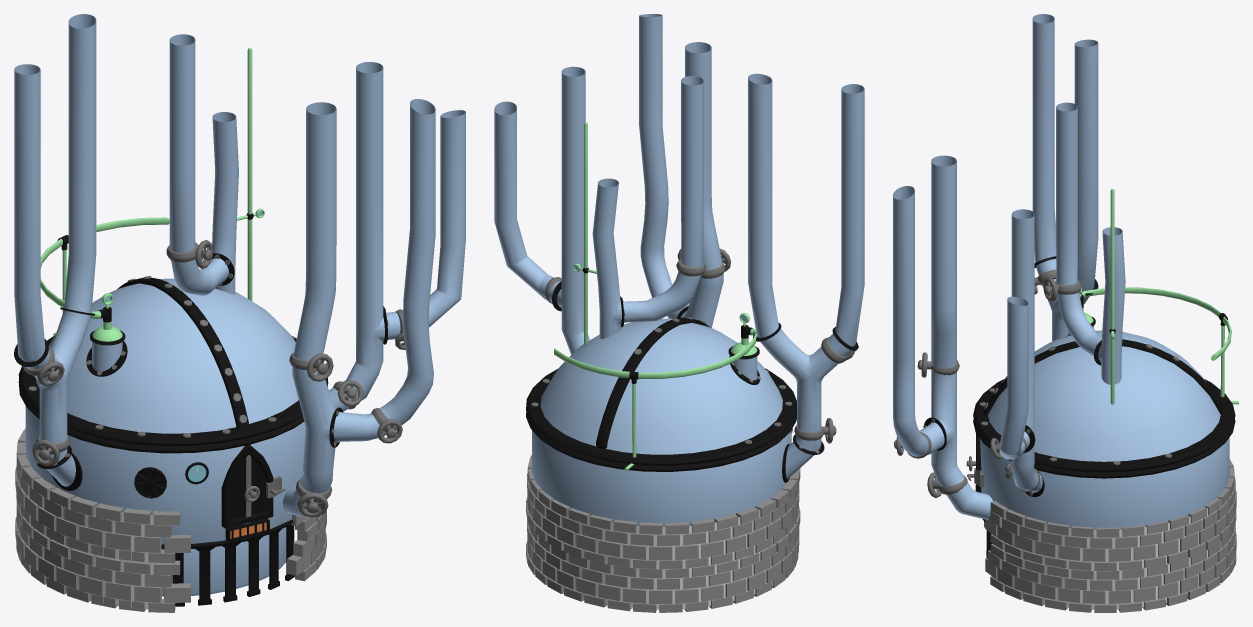
File: fourneau.fbx
3 renders of one model, left to right at view 1: azimuth 30°, elevation 25°; view 2: azimuth 150°, elevation 25°; view 3: azimuth 270°, elevation 25°, orthographic. The views are drawn at different scales.
Visible parts, largest first — view 1: dome, Elbow Joint.007, Elbow Joint.001, bricks, Tee Joint.001, main, Elbow Joint, rebord.001, rebord.002, Cube, base, dome_barre (+6 smaller); view 2: bricks, dome, Elbow Joint.001, main, Tee Joint.001, Elbow Joint.007, Elbow Joint, rebord.001, platre, rebord, dome_barre, Cylinder.020 (+1 smaller); view 3: bricks, dome, Elbow Joint.007, Elbow Joint.001, main, Elbow Joint, Tee Joint.001, rebord.001, platre, rebord, dome_barre, Cylinder.020 (+1 smaller).
Boxes of the visible parts, <box> form: dome: <box>36,278,298,433</box>; Elbow Joint.007: <box>283,99,435,517</box>; Elbow Joint.001: <box>14,14,96,486</box>; bricks: <box>15,428,326,612</box>; Tee Joint.001: <box>329,62,465,411</box>; main: <box>25,406,305,544</box>; Elbow Joint: <box>169,34,238,295</box>; rebord.001: <box>18,336,328,446</box>; rebord.002: <box>161,519,294,606</box>; Cube: <box>221,445,273,528</box>; base: <box>162,527,286,596</box>; dome_barre: <box>117,277,249,428</box>; bricks: <box>526,455,800,612</box>; dome: <box>540,318,782,454</box>; Elbow Joint.001: <box>748,73,864,479</box>; main: <box>532,430,791,526</box>; Tee Joint.001: <box>494,66,589,354</box>; Elbow Joint.007: <box>639,14,723,327</box>; Elbow Joint: <box>592,76,703,338</box>; rebord.001: <box>526,368,796,465</box>; platre: <box>536,491,796,609</box>; rebord: <box>526,412,796,471</box>; dome_barre: <box>596,317,710,448</box>; Cylinder.020: <box>554,328,756,378</box>; bricks: <box>984,459,1236,612</box>; dome: <box>988,330,1220,461</box>; Elbow Joint.007: <box>893,155,993,519</box>; Elbow Joint.001: <box>1032,14,1098,341</box>; main: <box>980,437,1229,529</box>; Elbow Joint: <box>1056,102,1125,384</box>; Tee Joint.001: <box>999,209,1042,492</box>; rebord.001: <box>973,379,1235,472</box>; platre: <box>996,499,1227,609</box>; rebord: <box>973,418,1235,478</box>; dome_barre: <box>983,339,1222,414</box>; Cylinder.020: <box>1081,287,1231,360</box>.
Bounding box in the file's own units: 941 × 1164 × 769.
